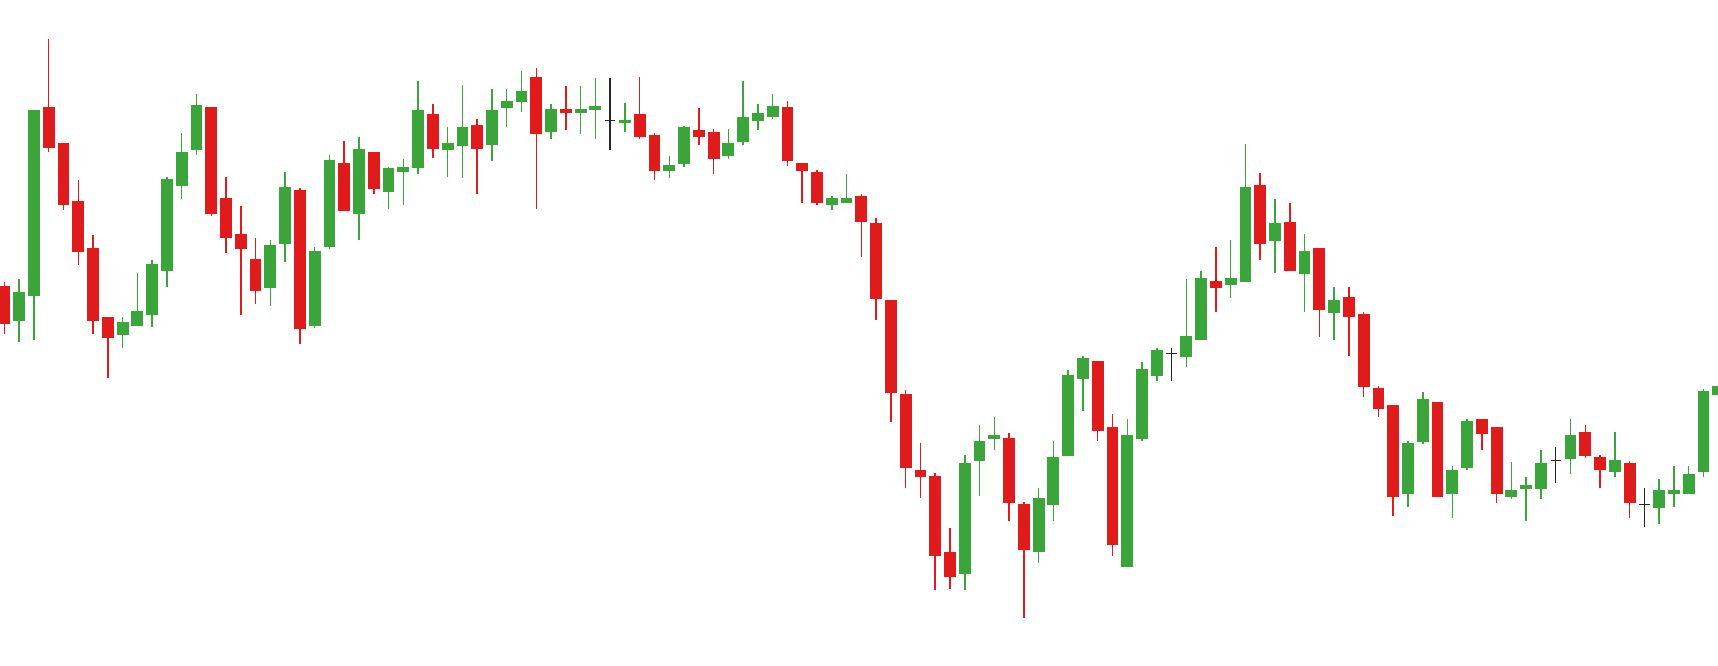buy: (10, 171, 118, 387), (927, 474, 1034, 623), (232, 220, 324, 346)
